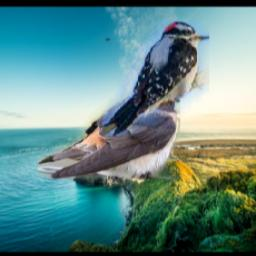Swallow: (38, 80, 180, 180)
Woodpecker: (102, 21, 209, 136)
